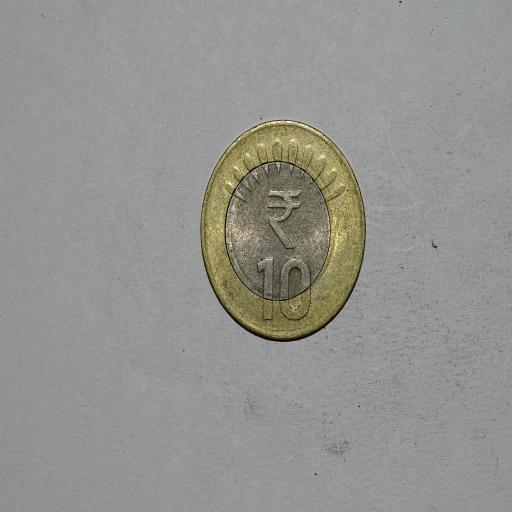rupee10: (197, 118, 369, 351)
